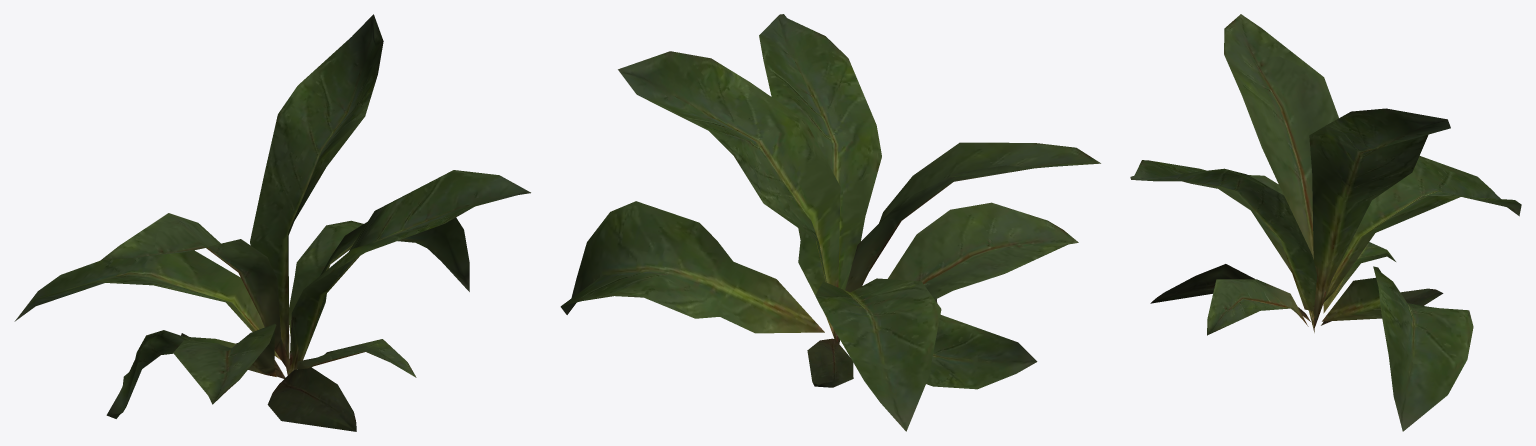
File: plant_anthurium_b.glb
3 renders of one model, left to right at view 1: azimuth 30°, elevation 25°; view 2: azimuth 150°, elevation 25°; view 3: azimuth 270°, elevation 25°, orthographic.
Visible parts, largest first — view 1: plant_anthurium_b; view 2: plant_anthurium_b; view 3: plant_anthurium_b.
Boxes of the visible parts, bbox=[...] form: plant_anthurium_b: bbox=[14, 14, 530, 431]; plant_anthurium_b: bbox=[560, 14, 1100, 431]; plant_anthurium_b: bbox=[1130, 14, 1521, 431].
Size of the model in its own units: 0.7494 by 0.4628 by 0.5684.
1 material, 1 textured.
